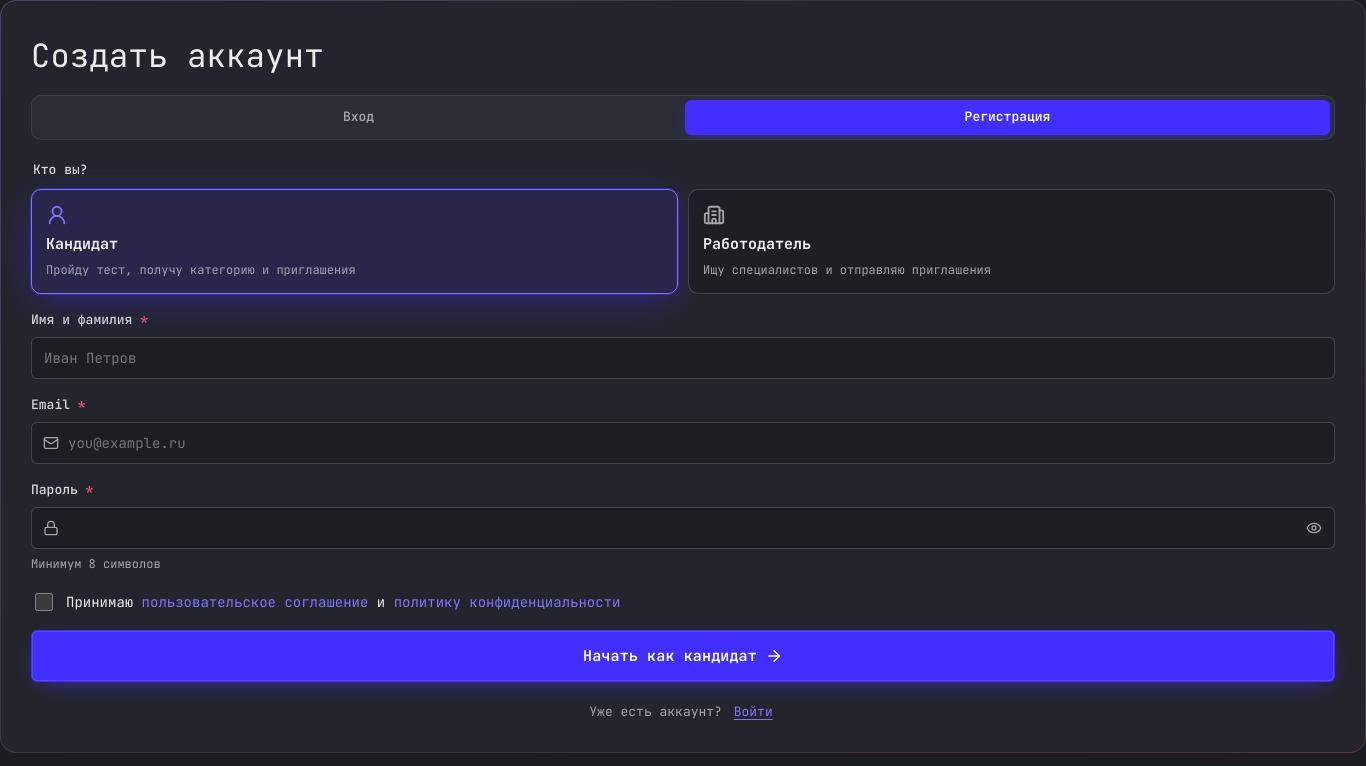
Scenario: AuthPage › валидирует пароль
In the field labelled "Имя и фамилия *": (683, 358) [31,337,1335,379], type "Иван"
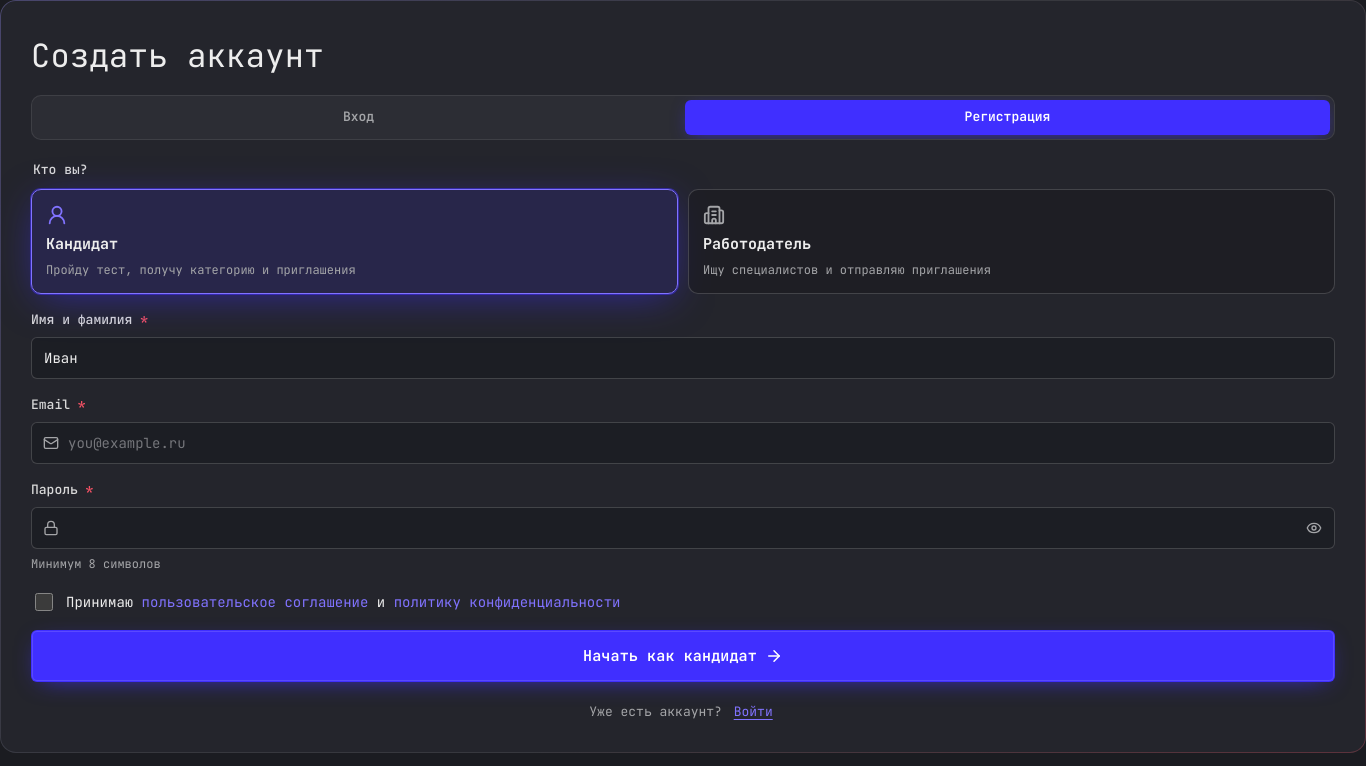
In the field labelled "Email *": (683, 443) [31,422,1335,464], type "a@b.ru"
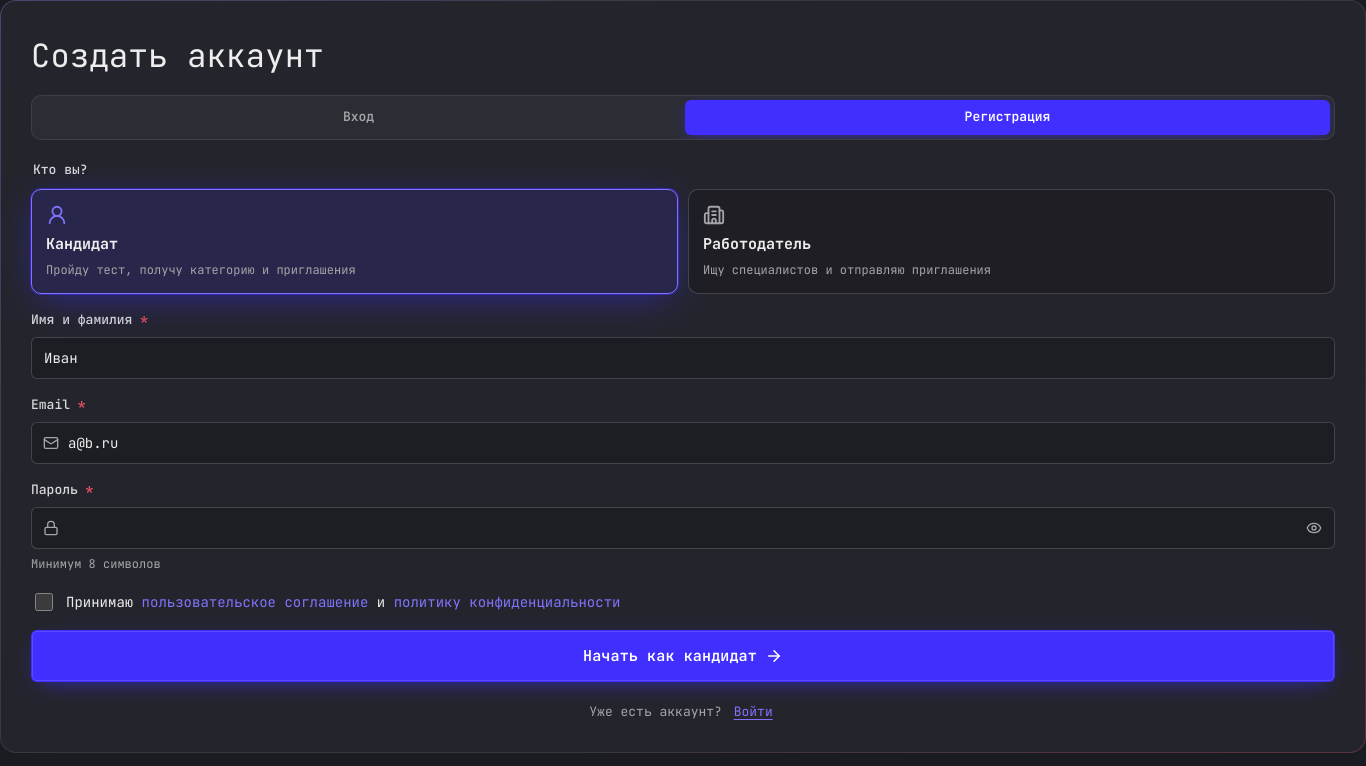
In the password field labelled "Пароль *": (683, 528) [31,507,1335,549], type "123"
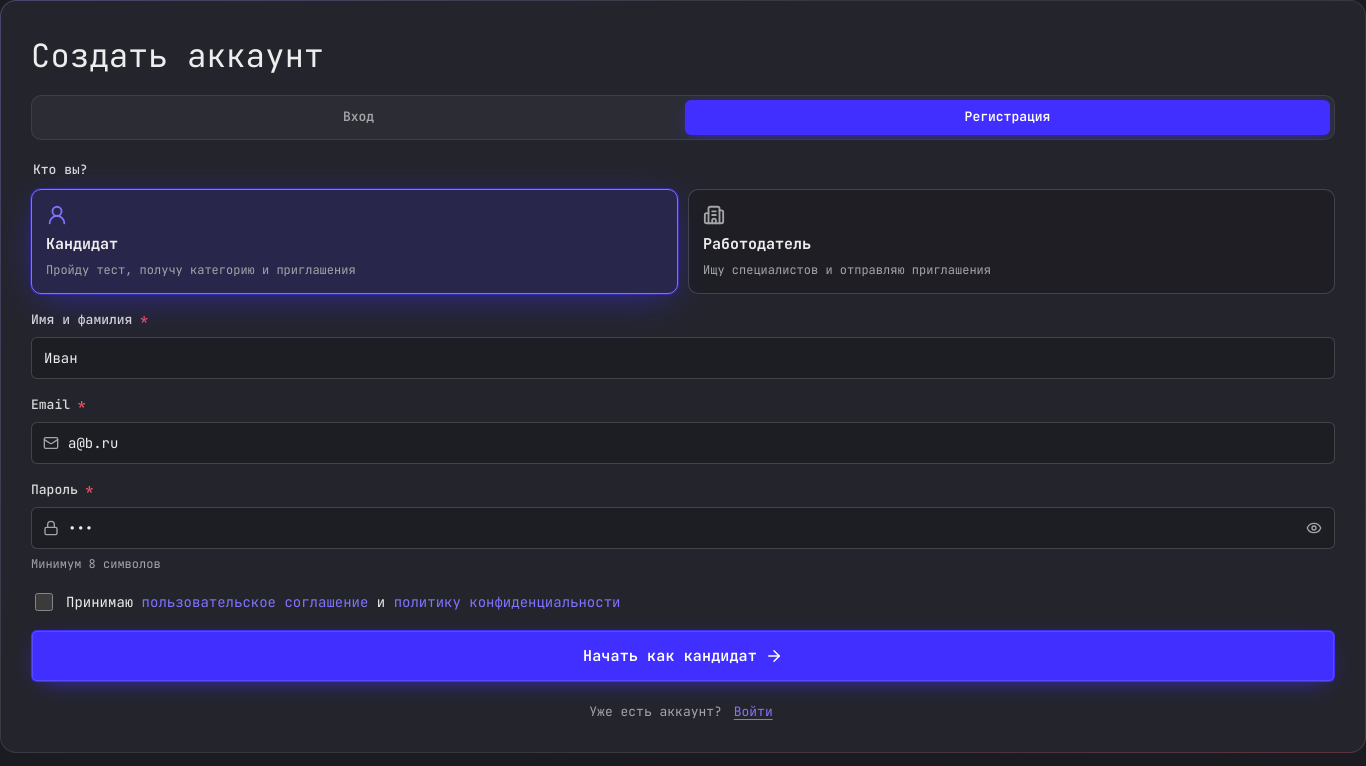
Click the button "Начать как кандидат": (683, 656) [31,630,1335,682]
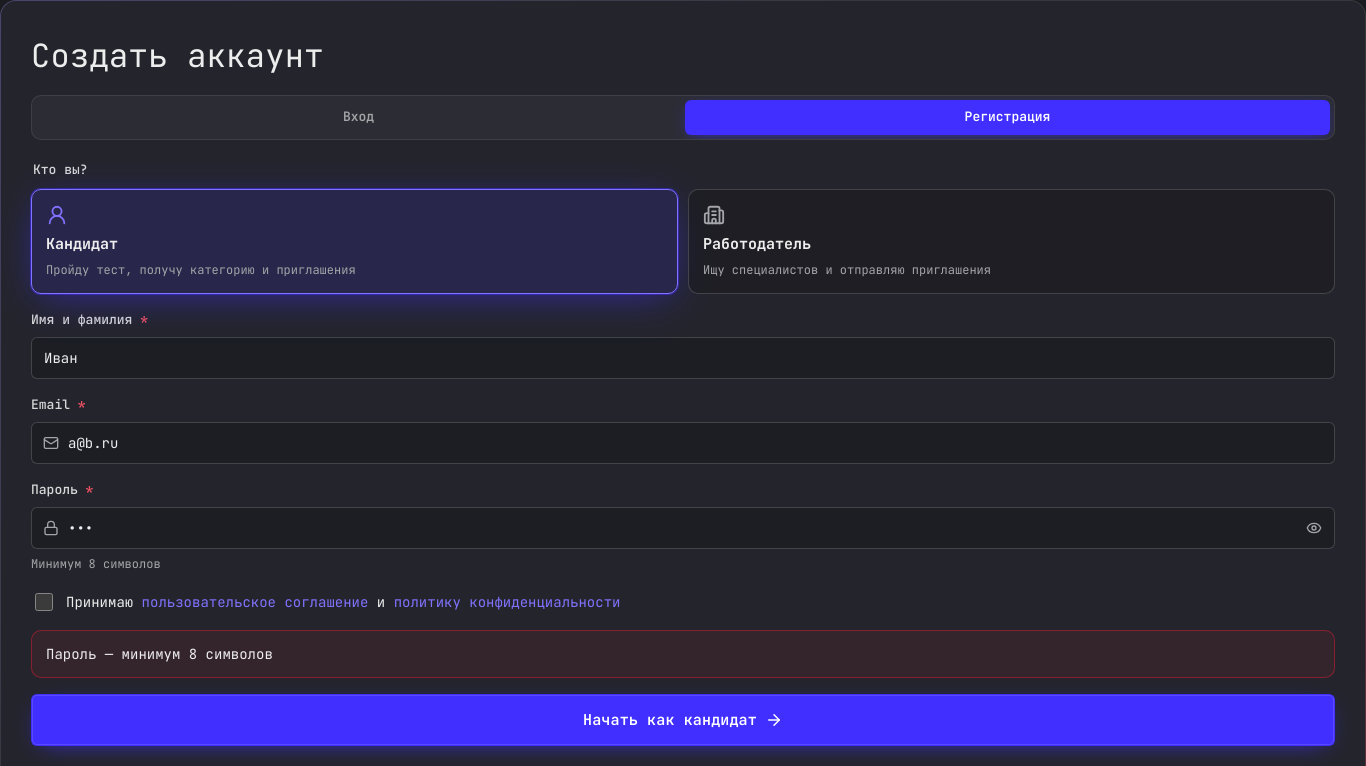
Now the message shows "минимум 8", box [46,644,273,662]
